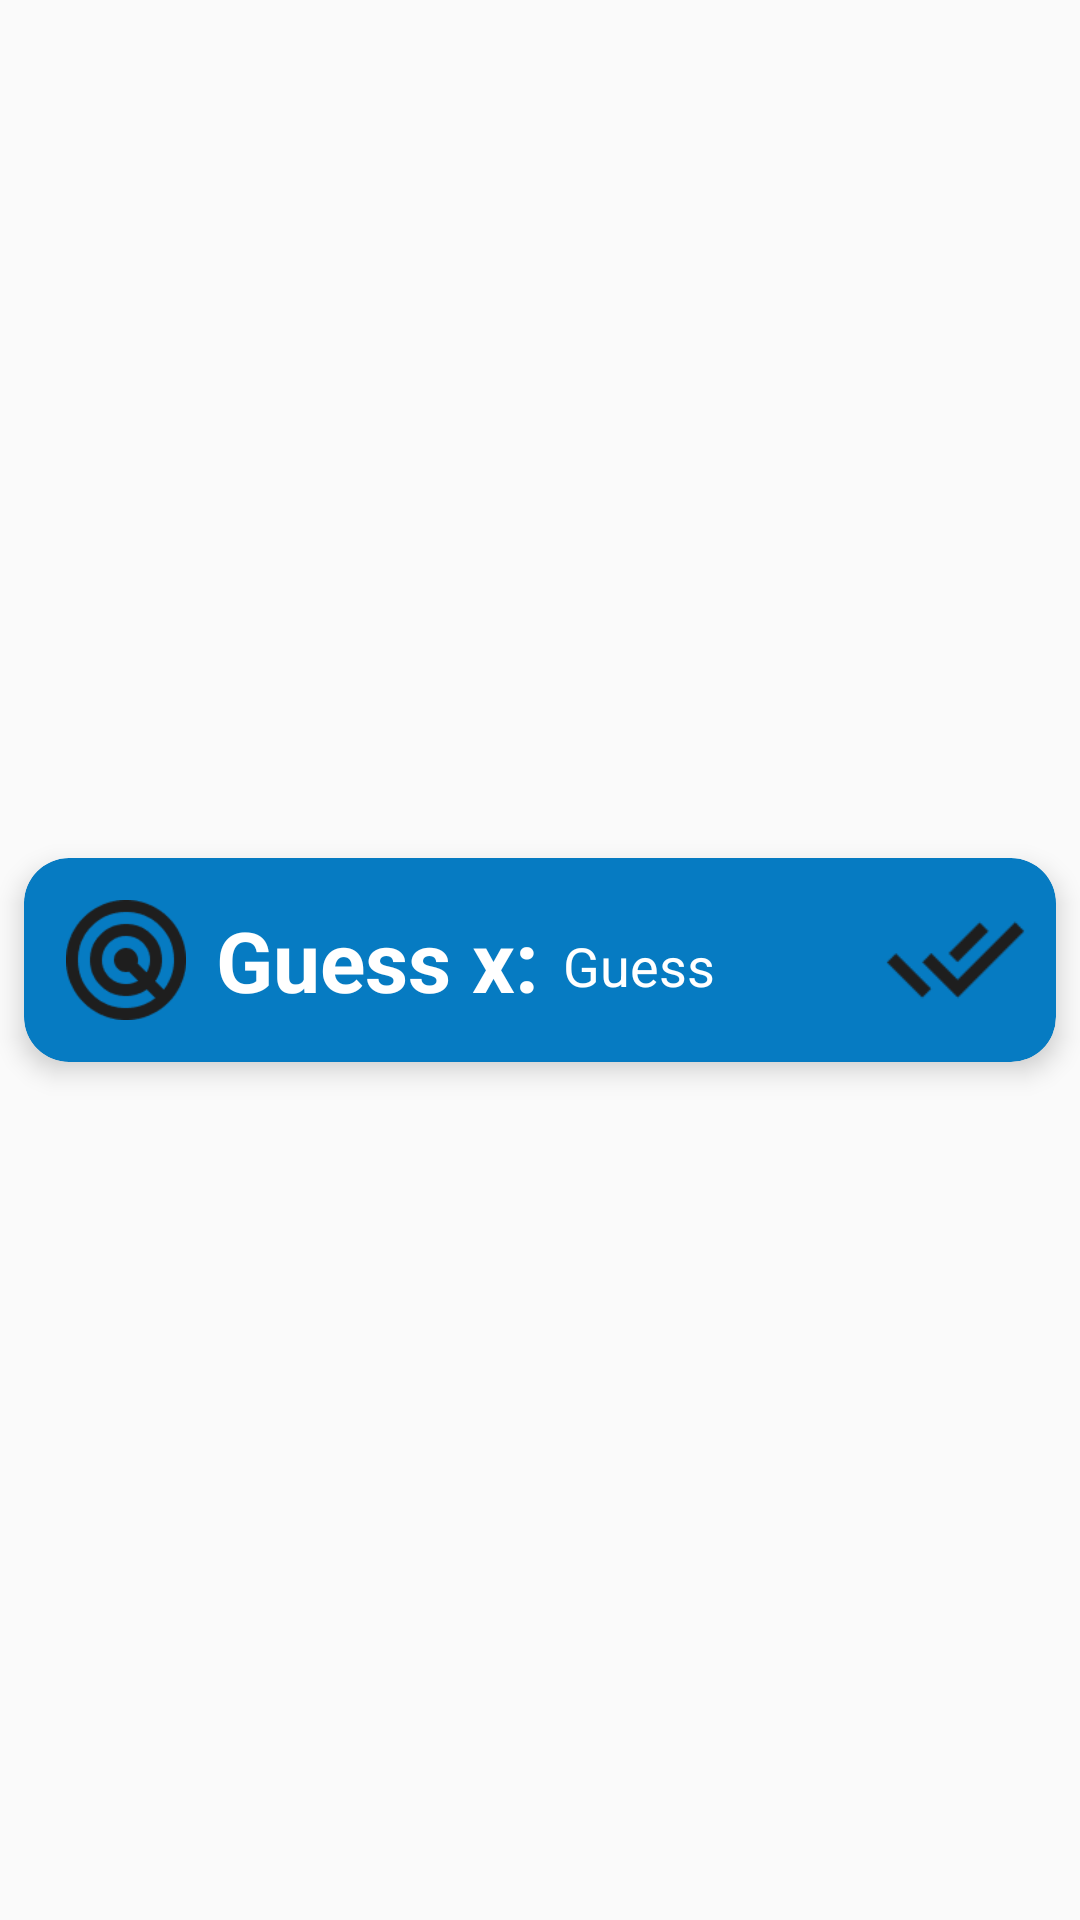

Icon bounding boxes for this 1080 × 1920 phone screenshot, format (x1, y1, x2, y2):
done all: (887, 922, 1024, 998)
radar: (66, 900, 186, 1020)
